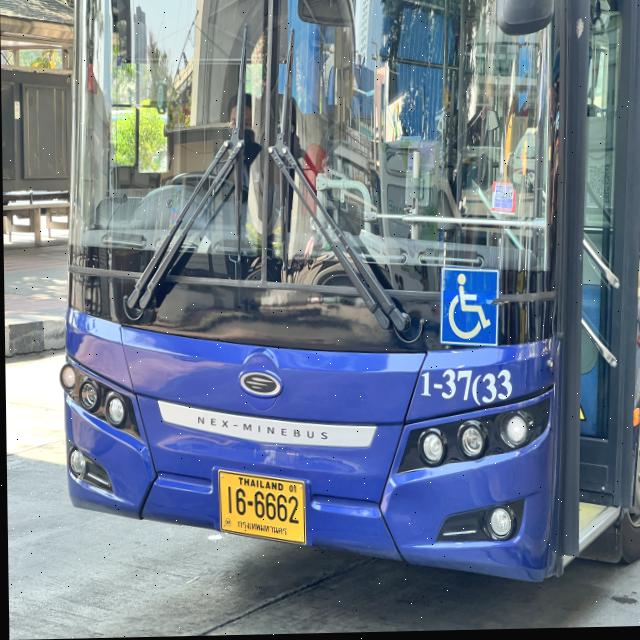TSB-Bus: (52, 0, 640, 596)
